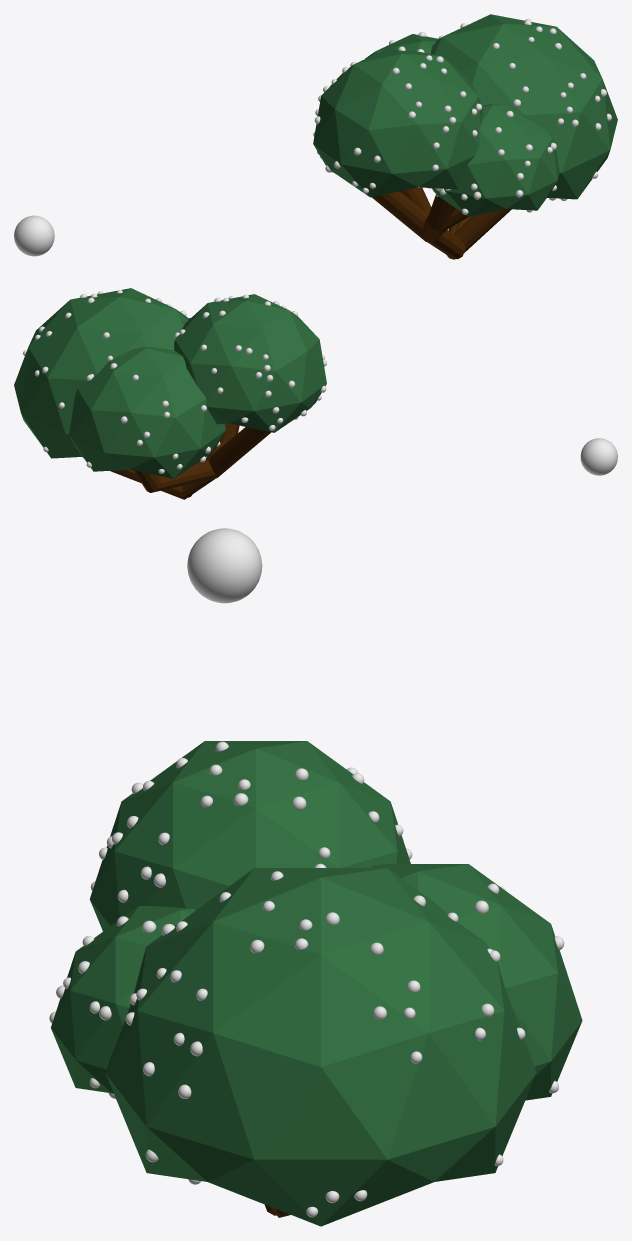
The model's file is berry_bush_variant3.fbx.
3 renders of one model, top to bottom at view 1: azimuth 30°, elevation 25°; view 2: azimuth 150°, elevation 25°; view 3: azimuth 270°, elevation 25°, orthographic. The views are drawn at different scales.
Visible parts, largest first — view 1: Icosphere.015, Icosphere.014, Icosphere.016, Vert.003, Sphere, Icosphere.017; view 2: Icosphere.015, Icosphere.017, Icosphere.014, Vert.003, Sphere; view 3: Icosphere.014, Icosphere.015, Icosphere.017, Icosphere.016, Sphere.
Boxes of the visible parts, x1,y1,x2,y2 form: Icosphere.015: (313,46,482,197); Icosphere.014: (430,14,617,199); Icosphere.016: (432,103,559,216); Vert.003: (372,187,511,259); Sphere: (14,215,54,256); Icosphere.017: (365,34,438,58); Icosphere.015: (174,294,326,432); Icosphere.017: (69,346,225,478); Icosphere.014: (14,288,188,458); Vert.003: (110,423,270,499); Sphere: (580,438,617,475); Icosphere.014: (105,868,536,1226); Icosphere.015: (89,741,410,931); Icosphere.017: (370,864,582,1100); Icosphere.016: (51,905,195,1093); Sphere: (187,528,262,603).
Bounding box in the file's own units: 118 × 41.68 × 48.7.
